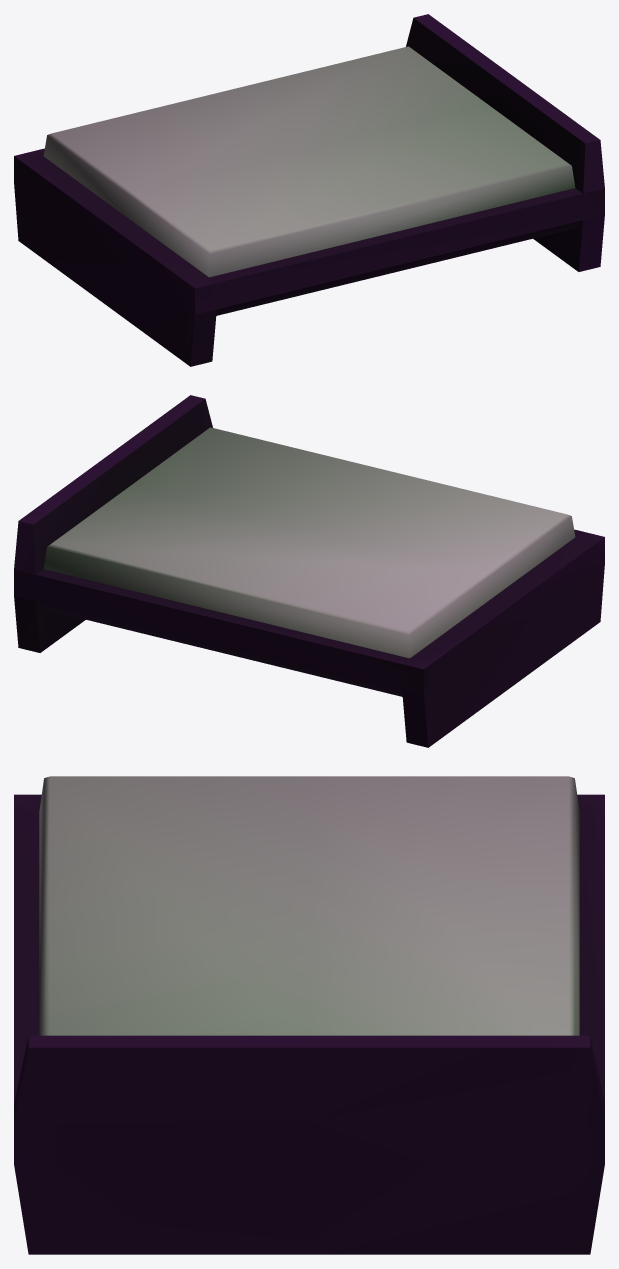
File: bed.FBX
The picture shows the model from 3 angles, top to bottom: view 1: azimuth 30°, elevation 25°; view 2: azimuth 150°, elevation 25°; view 3: azimuth 270°, elevation 25°; orthographic projection. The views are drawn at different scales.
Visible parts, largest first — view 1: bed; view 2: bed; view 3: bed.
Boxes of the visible parts, x1,y1,x2,y2 form: bed: (14,14,604,366); bed: (14,395,604,747); bed: (14,776,604,1254).
Size of the model in its own units: 2.89 by 0.8552 by 2.21.
